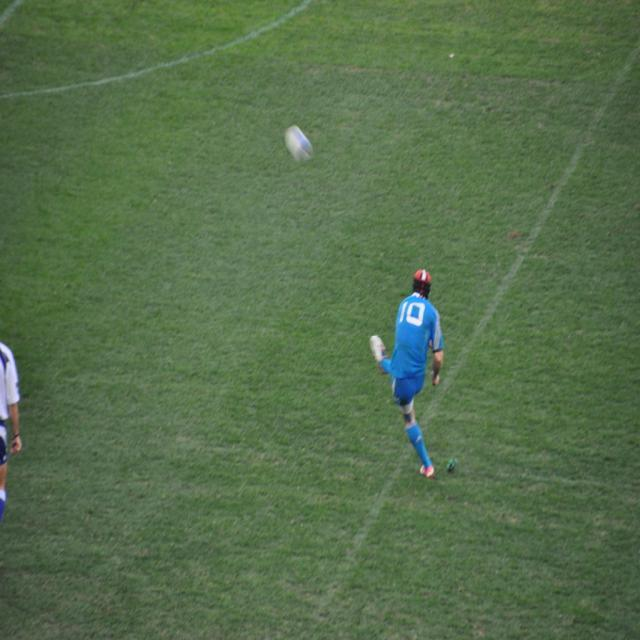football: (274, 118, 321, 169)
